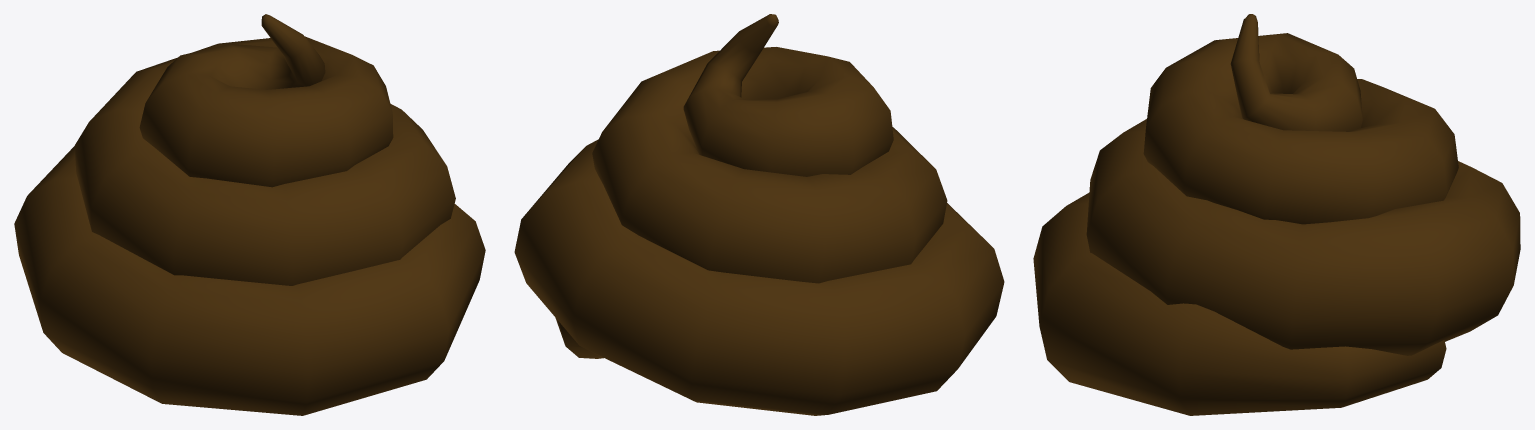
Rendered from props_poop.fbx.
The picture shows the model from 3 angles, left to right: view 1: azimuth 30°, elevation 25°; view 2: azimuth 150°, elevation 25°; view 3: azimuth 270°, elevation 25°; orthographic projection. The views are drawn at different scales.
Visible parts, largest first — view 1: Spiral; view 2: Spiral; view 3: Spiral.
Boxes of the visible parts, bbox=[...] form: Spiral: bbox=[14, 14, 485, 415]; Spiral: bbox=[514, 14, 1004, 415]; Spiral: bbox=[1033, 14, 1520, 415].
Bounding box in the file's own units: 59.13 × 47.87 × 61.18.
